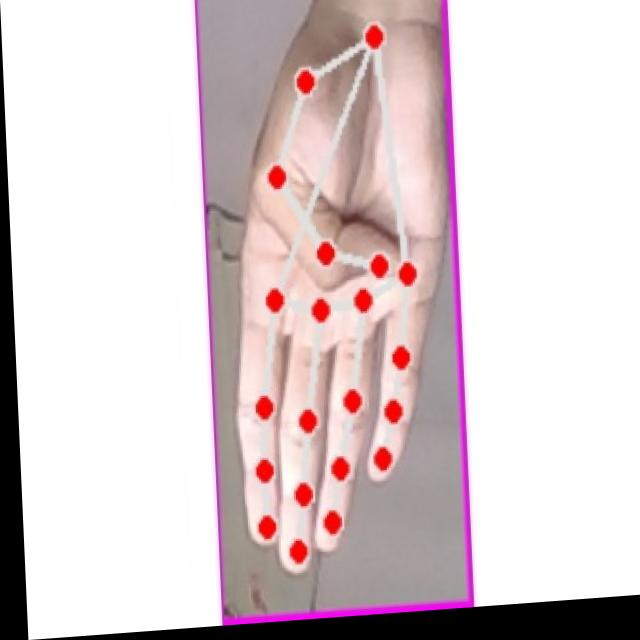B: (202, 4, 454, 593)
